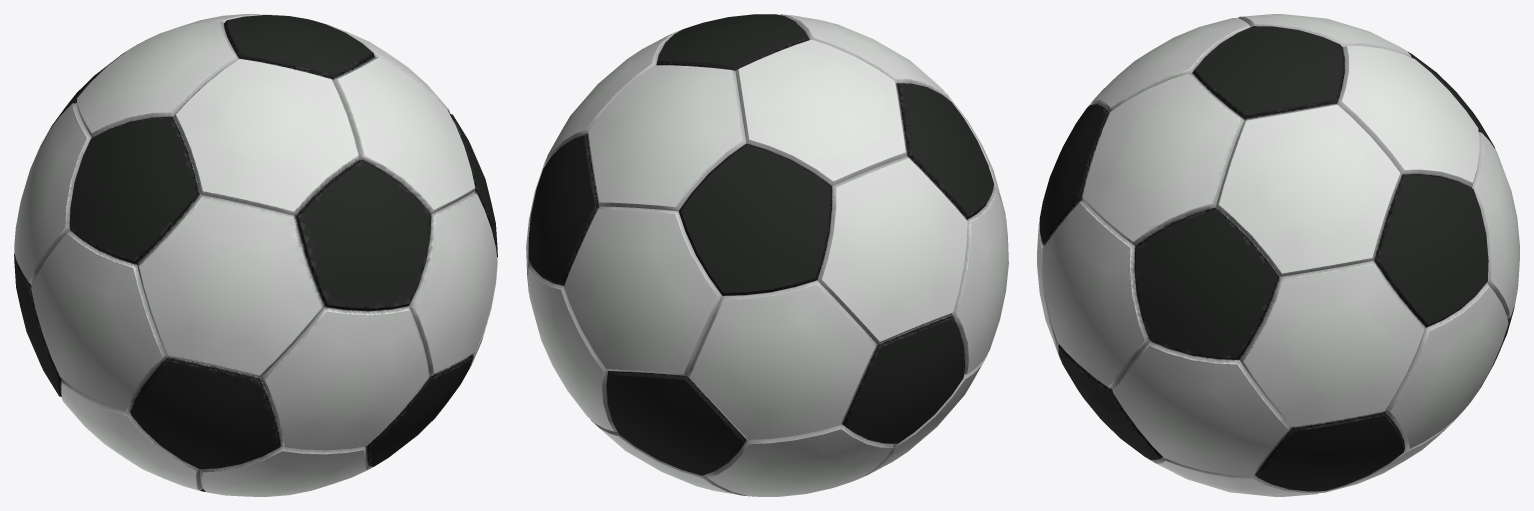
File: football.fbx
3 renders of one model, left to right at view 1: azimuth 30°, elevation 25°; view 2: azimuth 150°, elevation 25°; view 3: azimuth 270°, elevation 25°, orthographic.
Parts seen in each view (by area): view 1: node_id30; view 2: node_id30; view 3: node_id30.
Part boxes in pixels (left/top/right/bottom): node_id30: left=14, top=14, right=497, bottom=496; node_id30: left=526, top=14, right=1008, bottom=496; node_id30: left=1037, top=14, right=1519, bottom=496.
Size of the model in its own units: 0.5119 by 0.5111 by 0.5112.
Materials: 1 (1 with a texture image).
